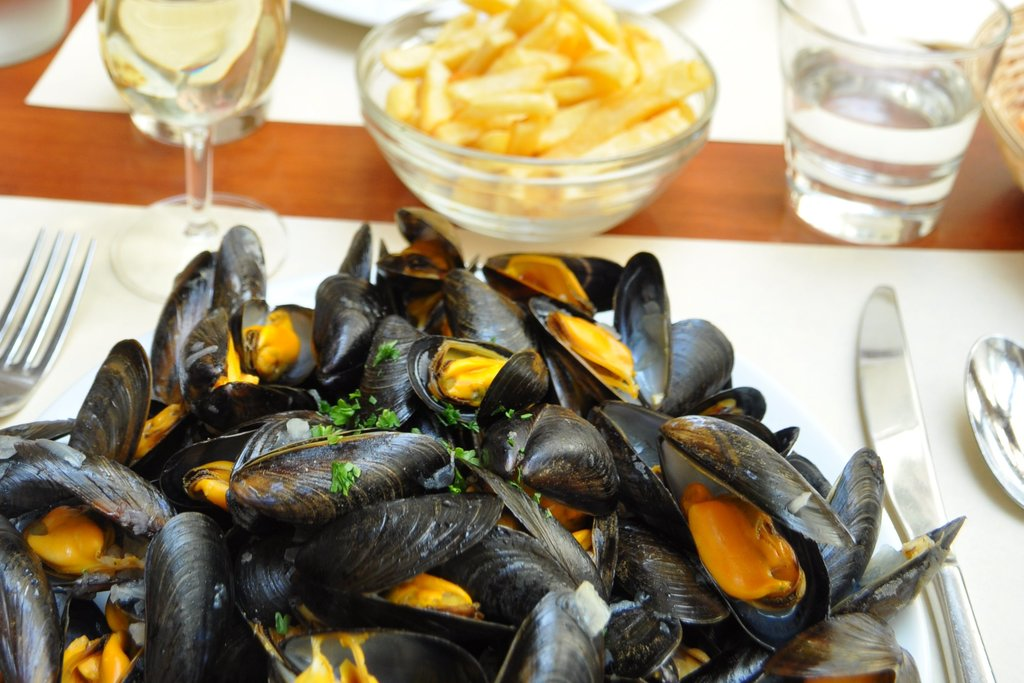French fries: (373, 12, 707, 212)
